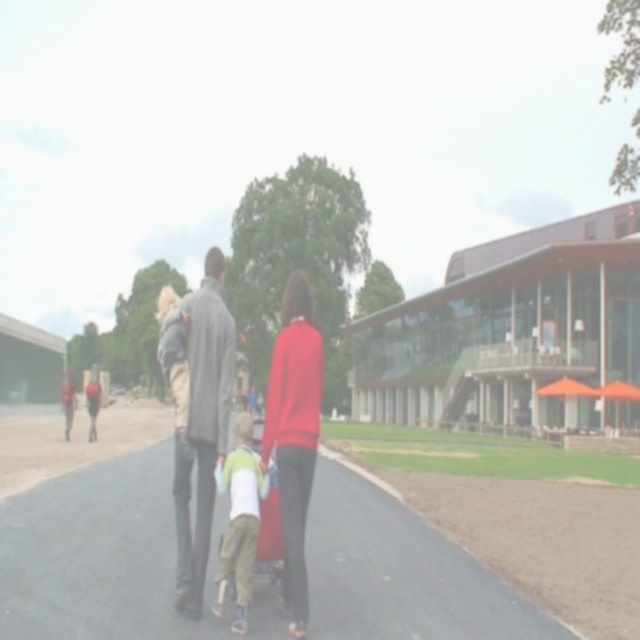pessoa: (160, 245, 237, 620), (256, 264, 328, 639), (210, 407, 272, 637), (152, 280, 198, 470), (59, 367, 78, 442), (85, 374, 103, 446), (596, 418, 622, 442), (54, 373, 66, 412), (247, 384, 259, 422), (402, 337, 414, 368), (228, 390, 241, 414), (126, 383, 143, 401), (240, 386, 250, 414), (520, 331, 528, 366), (256, 389, 264, 422), (455, 329, 463, 351)
